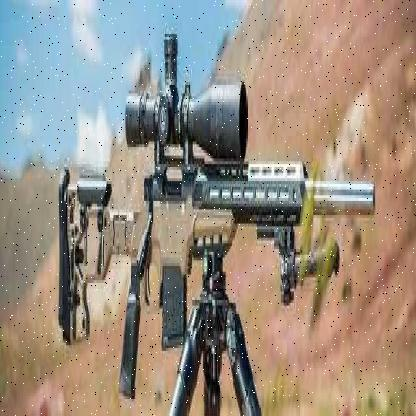rifle: (40, 45, 387, 413)
